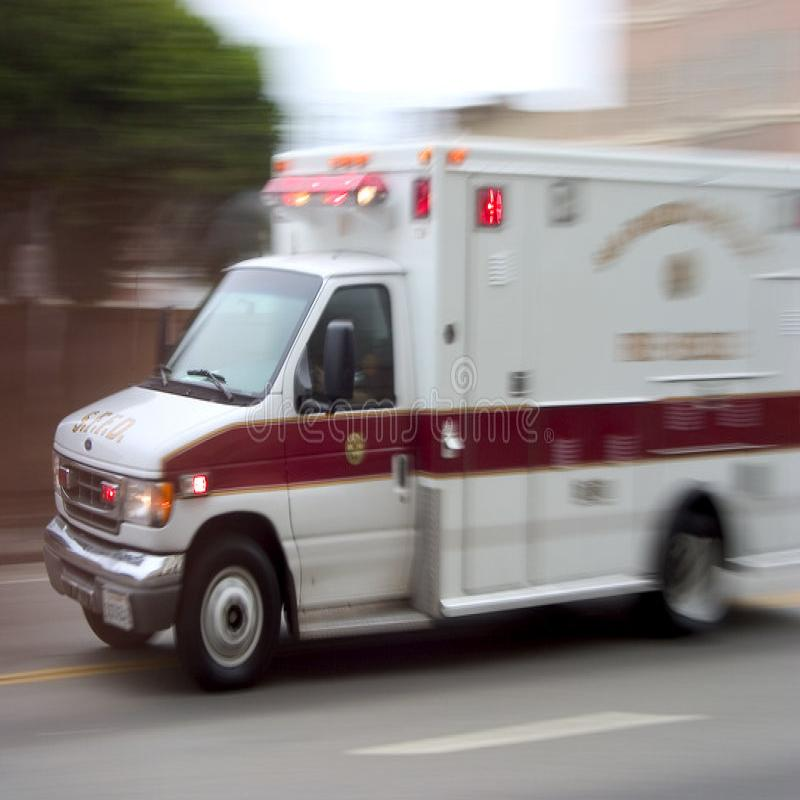ambulance: (43, 125, 800, 687)
